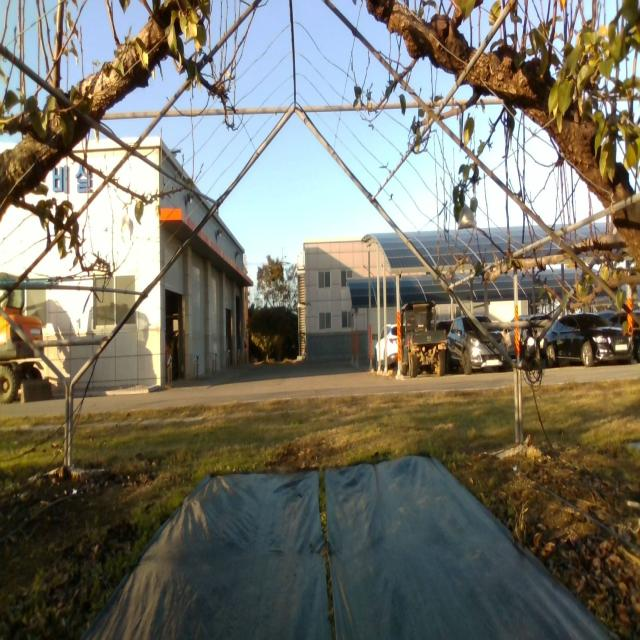pearbags: (457, 204, 478, 232), (120, 214, 134, 245)
